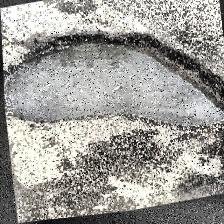pothole: (2, 7, 224, 170)
